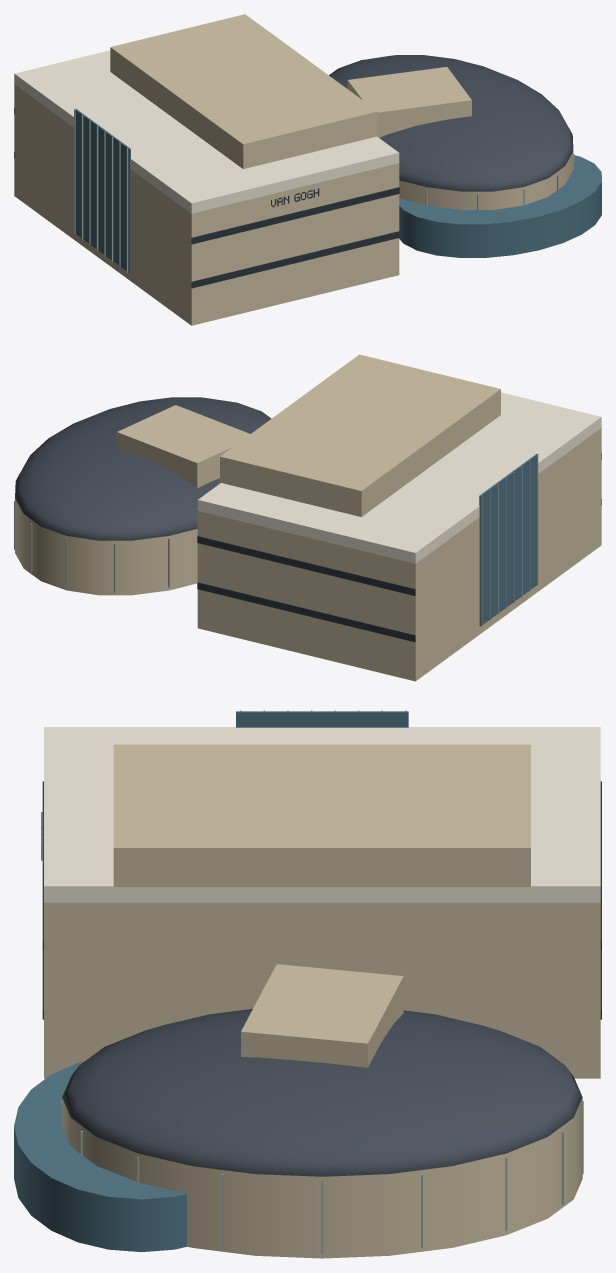
The model's file is van-gogh-museum.glb.
The picture shows the model from 3 angles, top to bottom: view 1: azimuth 30°, elevation 25°; view 2: azimuth 150°, elevation 25°; view 3: azimuth 270°, elevation 25°; orthographic projection. The views are drawn at different scales.
Visible parts, largest first — view 1: van-gogh-museum; view 2: van-gogh-museum; view 3: van-gogh-museum.
Part boxes in pixels (<box>): van-gogh-museum: <box>14,14,601,325</box>; van-gogh-museum: <box>14,354,601,681</box>; van-gogh-museum: <box>14,710,601,1258</box>.
Bounding box in the file's own units: 58.18 × 18.4 × 42.39.
